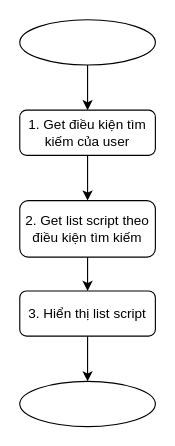
Some shapes in this 175 by 446 pixel diagram are drawn without their labels. The centre of each missing label's shape, as x and y in pixels:
"Bắt đầu" belongs at (x=87, y=42).
"Kết thúc" belongs at (x=87, y=403).
